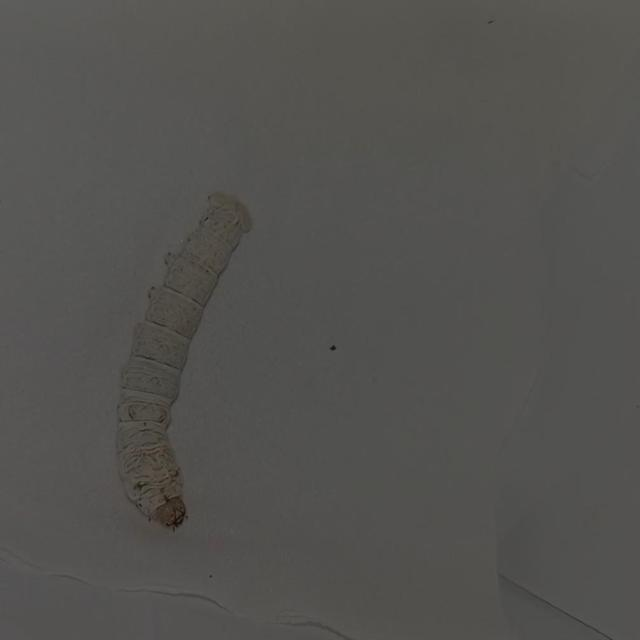Healthy: (80, 166, 317, 558)
